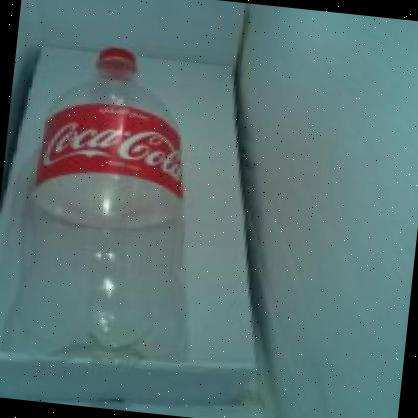bottle: (9, 28, 228, 373)
cap: (90, 42, 142, 71)
label: (32, 101, 205, 208)
